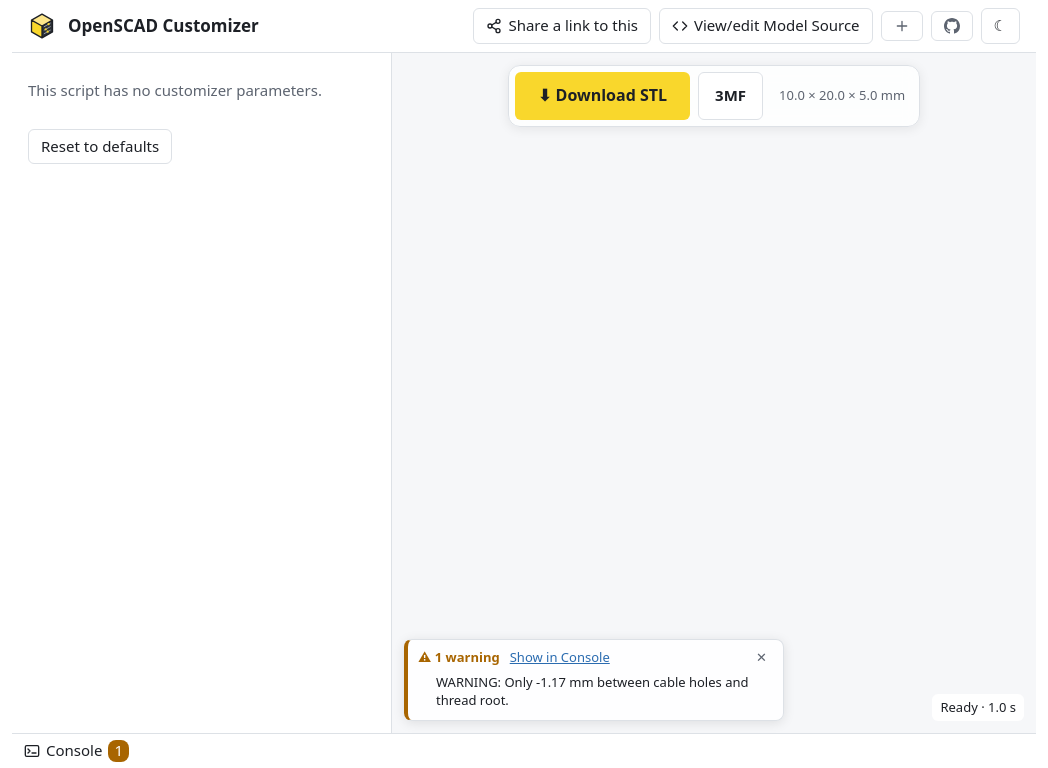
Scenario: App › model view › overlays render warnings on the 3D view and opens the Console from there
Expected: the element "1 warning" is shown, [392,53,1036,733]
Expected: the message "1 warning" shows "WARNING: Only -1.17 mm between cable holes and thread root.", [436,673,748,709]
Click the text "Show in Console".
click(560, 657)  # box [510,648,610,666]
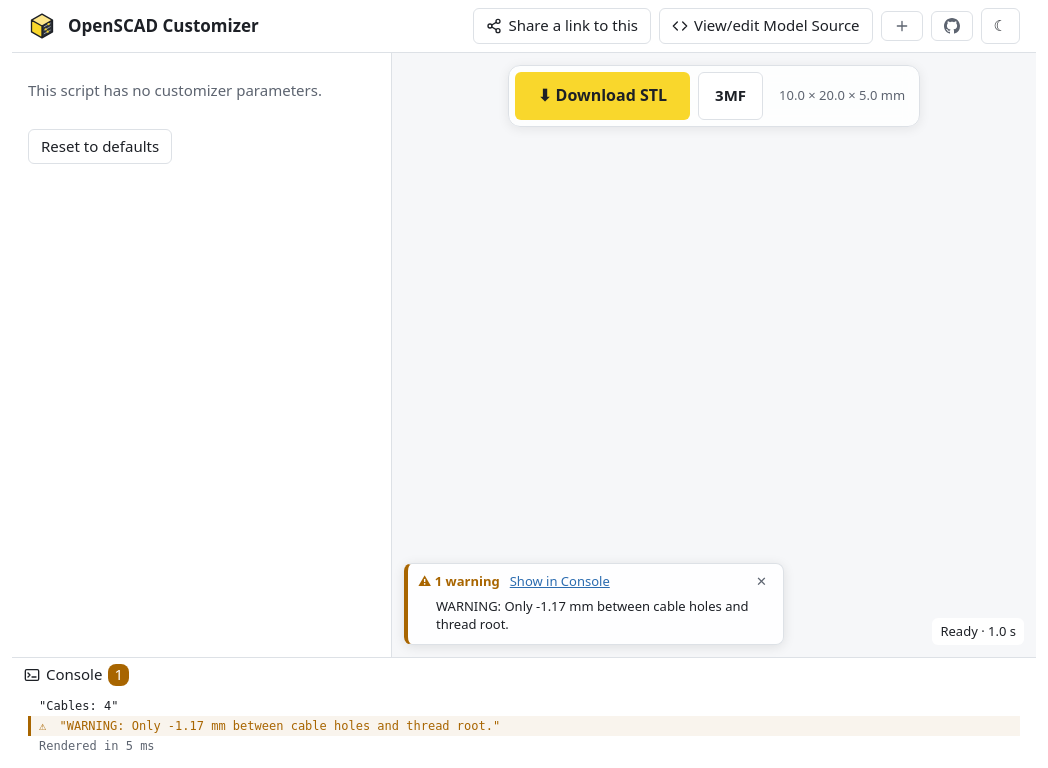
Expected: the element with class "echo" does not show "⚠"
Now the list item with class "warning" shows "⚠", box [39,719,46,733]
